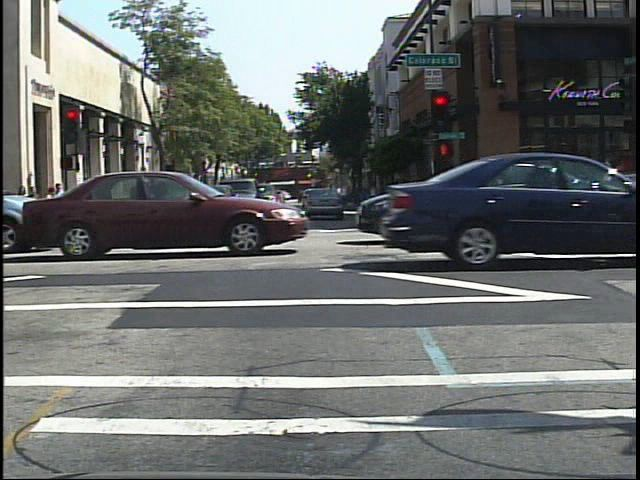person: (598, 157, 624, 222)
